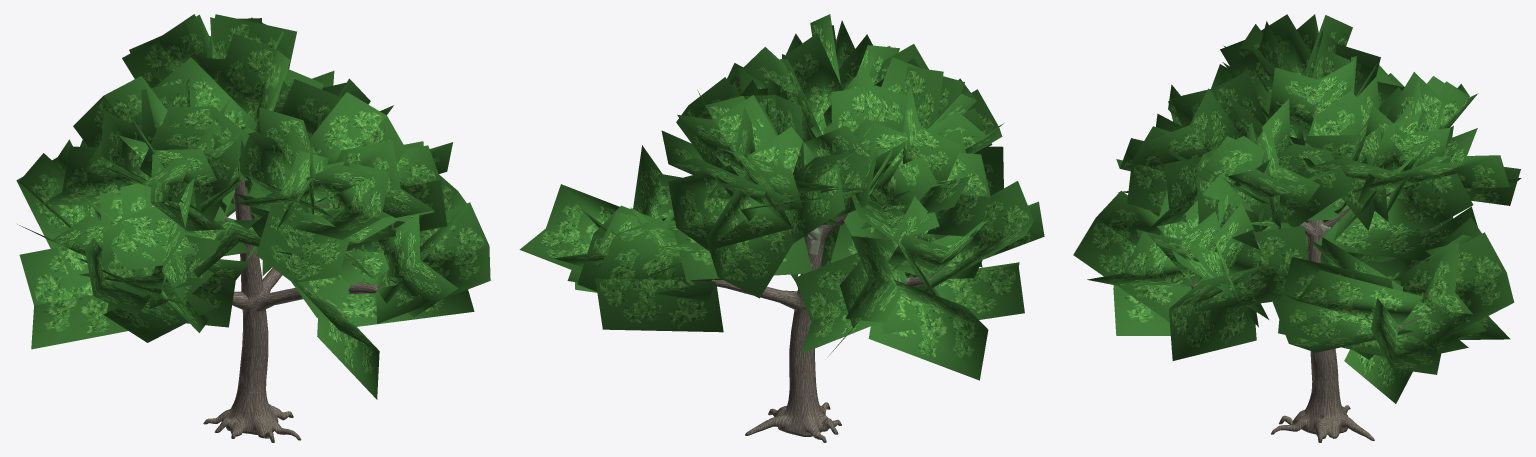
Rendered from environment_elm1_v59.fbx.
3 views of the same model, side by side, from view 1: azimuth 30°, elevation 25°; view 2: azimuth 150°, elevation 25°; view 3: azimuth 270°, elevation 25° (orthographic). The views are drawn at different scales.
Visible parts, largest first — view 1: environment_elm1_v59_lod0; view 2: environment_elm1_v59_lod0; view 3: environment_elm1_v59_lod0.
Boxes of the visible parts, x1,y1,x2,y2 form: environment_elm1_v59_lod0: (16,14,490,442); environment_elm1_v59_lod0: (519,14,1044,442); environment_elm1_v59_lod0: (1073,14,1521,442).
Size of what is drawn, in the model's own units: 2930 by 2300 by 2558.
Materials: 3 (3 with a texture image).
